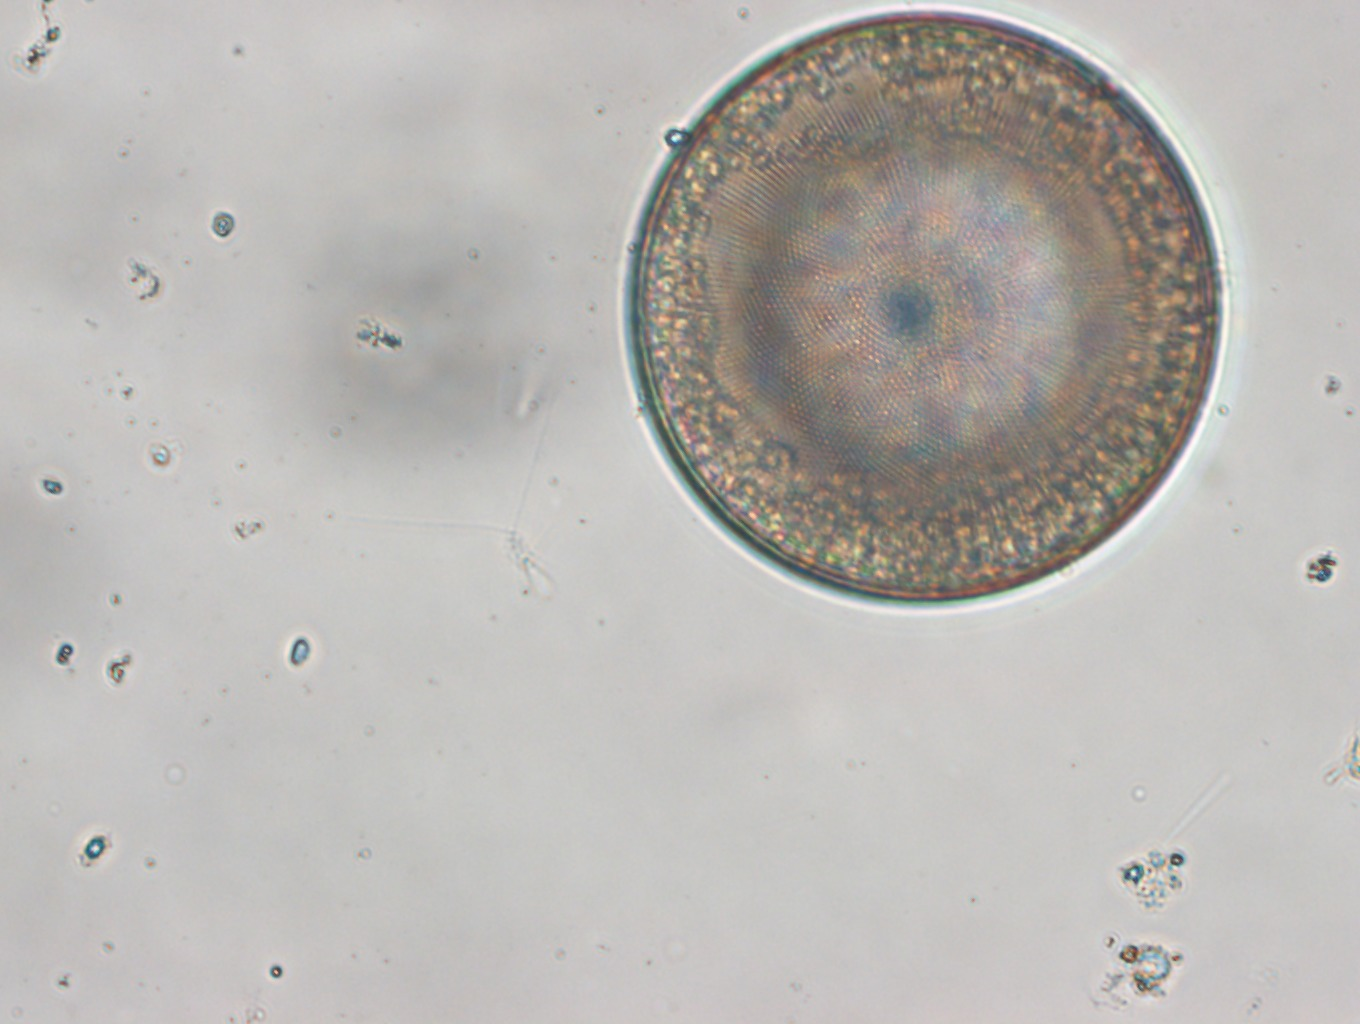coscinodiscus: (614, 6, 1231, 618)
